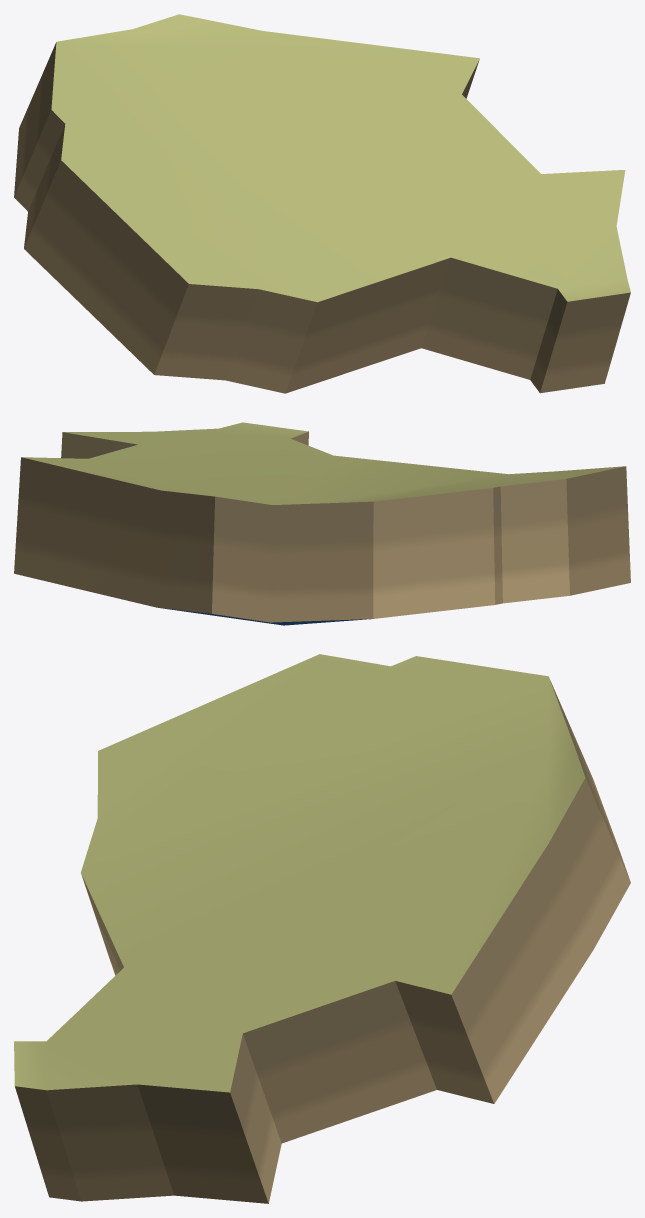
The model's file is 0658_Niger.glb.
The picture shows the model from 3 angles, top to bottom: view 1: azimuth 30°, elevation 25°; view 2: azimuth 150°, elevation 25°; view 3: azimuth 270°, elevation 25°; orthographic projection. The views are drawn at different scales.
Visible parts, largest first — view 1: part_0; view 2: part_0; view 3: part_0.
Part boxes in pixels (bbox=[...]): part_0: bbox=[14, 14, 630, 393]; part_0: bbox=[14, 422, 630, 625]; part_0: bbox=[14, 654, 630, 1203].
Bounding box in the file's own units: 1.11 × 0.5262 × 0.9087.
1 material, 1 textured.
